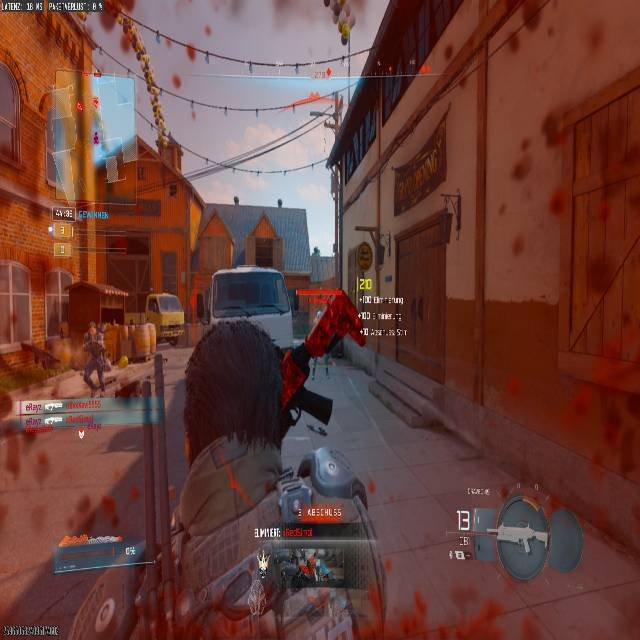player: (80, 327, 107, 391)
